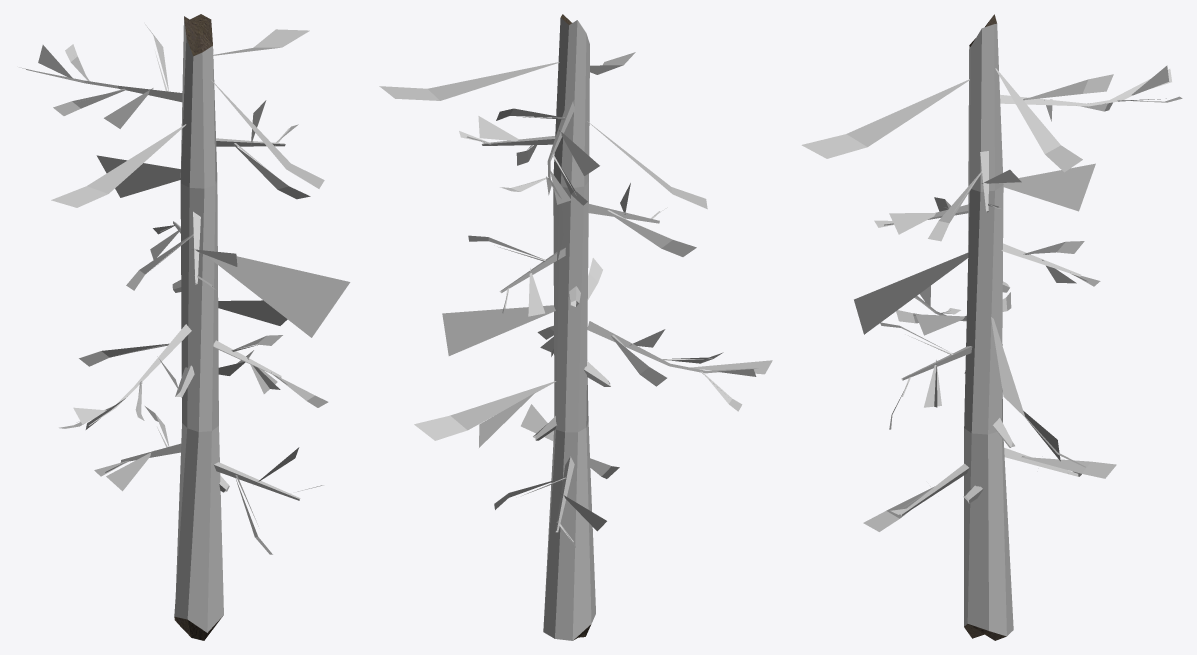
File: SM_PineDead04_lod2.obj
The picture shows the model from 3 angles, left to right: view 1: azimuth 30°, elevation 25°; view 2: azimuth 150°, elevation 25°; view 3: azimuth 270°, elevation 25°; orthographic projection.
Visible parts, largest first — view 1: SM_PineDead04_lod2; view 2: SM_PineDead04_lod2; view 3: SM_PineDead04_lod2.
Boxes of the visible parts, x1,y1,x2,y2 form: SM_PineDead04_lod2: (19, 14, 350, 640); SM_PineDead04_lod2: (379, 14, 772, 640); SM_PineDead04_lod2: (801, 14, 1182, 640).
Size of the model in its own units: 89.08 by 172 by 95.91.
